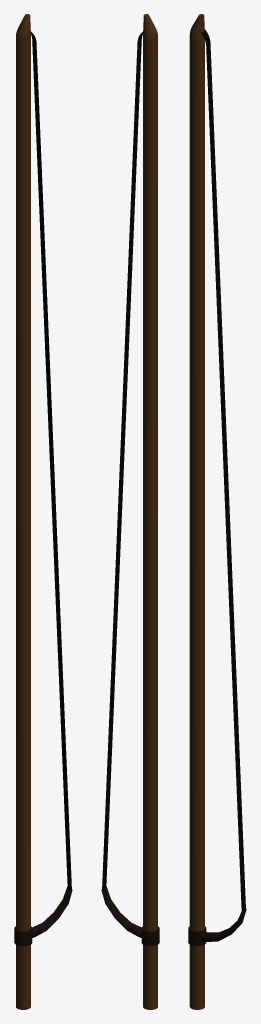
The model's file is yay.glb.
The picture shows the model from 3 angles, left to right: view 1: azimuth 30°, elevation 25°; view 2: azimuth 150°, elevation 25°; view 3: azimuth 330°, elevation 25°; orthographic projection.
Visible parts, largest first — view 1: Object_33, Object_35, Object_34; view 2: Object_33, Object_35, Object_34; view 3: Object_33, Object_35, Object_34.
Boxes of the visible parts, x1,y1,x2,y2 form: Object_33: (16,14,30,1009); Object_35: (31,32,71,889); Object_34: (14,886,72,946); Object_33: (143,14,157,1009); Object_35: (102,32,142,889); Object_34: (101,886,159,946); Object_33: (189,14,204,1009); Object_35: (201,29,245,912); Object_34: (188,909,246,945).
Size of the model in its own units: 0.0831 by 1.42 by 0.0235.
